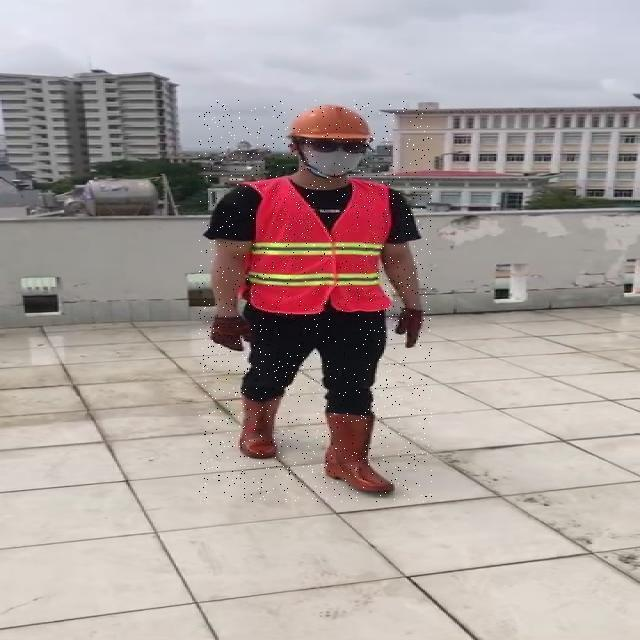boots: (320, 412, 395, 492), (236, 391, 280, 460)
gloves: (208, 314, 258, 352), (396, 308, 425, 347)
helmet: (286, 102, 372, 141)
helmet on: (288, 102, 374, 176)
person: (199, 100, 432, 502)
vest: (240, 180, 391, 313)
